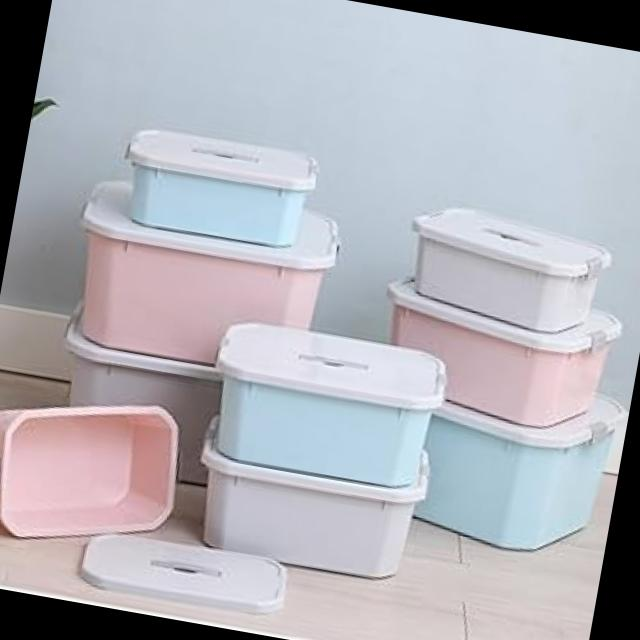plastic_box: (195, 289, 457, 588), (56, 174, 359, 385), (372, 260, 628, 443), (389, 186, 623, 347), (0, 397, 193, 539), (112, 120, 323, 247)
